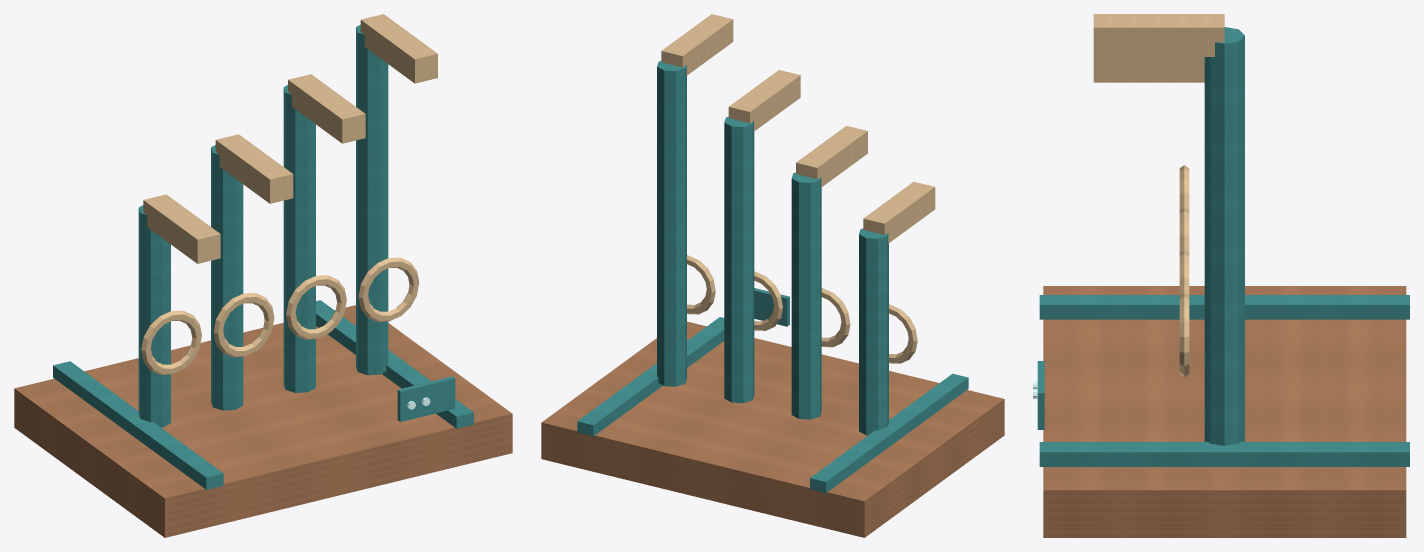
The model's file is atlas100-s094-a03.glb.
3 renders of one model, left to right at view 1: azimuth 30°, elevation 25°; view 2: azimuth 150°, elevation 25°; view 3: azimuth 270°, elevation 25°, orthographic. The views are drawn at different scales.
Parts seen in each view (by area): view 1: atlas100-s094-a03:part-000, atlas100-s094-a03:part-012, atlas100-s094-a03:part-009, atlas100-s094-a03:part-006, atlas100-s094-a03:part-003, atlas100-s094-a03:part-001, atlas100-s094-a03:part-008, atlas100-s094-a03:part-011, atlas100-s094-a03:part-005, atlas100-s094-a03:part-014, atlas100-s094-a03:part-002, atlas100-s094-a03:part-015 (+4 smaller); view 2: atlas100-s094-a03:part-000, atlas100-s094-a03:part-012, atlas100-s094-a03:part-009, atlas100-s094-a03:part-006, atlas100-s094-a03:part-003, atlas100-s094-a03:part-001, atlas100-s094-a03:part-002, atlas100-s094-a03:part-014, atlas100-s094-a03:part-005, atlas100-s094-a03:part-011, atlas100-s094-a03:part-008, atlas100-s094-a03:part-015 (+4 smaller); view 3: atlas100-s094-a03:part-000, atlas100-s094-a03:part-012, atlas100-s094-a03:part-002, atlas100-s094-a03:part-001, atlas100-s094-a03:part-014, atlas100-s094-a03:part-005, atlas100-s094-a03:part-008, atlas100-s094-a03:part-011, atlas100-s094-a03:part-013, atlas100-s094-a03:part-015, atlas100-s094-a03:part-004, atlas100-s094-a03:part-007 (+1 smaller).
Part boxes in pixels (box(x1,y1,x2,y2)): atlas100-s094-a03:part-000: box(14, 305, 512, 537); atlas100-s094-a03:part-012: box(356, 24, 388, 375); atlas100-s094-a03:part-009: box(283, 85, 315, 392); atlas100-s094-a03:part-006: box(211, 145, 243, 410); atlas100-s094-a03:part-003: box(138, 205, 170, 427); atlas100-s094-a03:part-001: box(53, 361, 223, 489); atlas100-s094-a03:part-008: box(215, 134, 293, 203); atlas100-s094-a03:part-011: box(288, 74, 365, 143); atlas100-s094-a03:part-005: box(143, 194, 220, 263); atlas100-s094-a03:part-014: box(360, 14, 437, 83); atlas100-s094-a03:part-002: box(316, 300, 473, 428); atlas100-s094-a03:part-015: box(397, 376, 455, 421); atlas100-s094-a03:part-000: box(541, 321, 1004, 537); atlas100-s094-a03:part-012: box(657, 61, 686, 386); atlas100-s094-a03:part-009: box(724, 116, 754, 403); atlas100-s094-a03:part-006: box(791, 172, 821, 419); atlas100-s094-a03:part-003: box(859, 228, 888, 435); atlas100-s094-a03:part-001: box(810, 373, 968, 493); atlas100-s094-a03:part-002: box(577, 317, 724, 436); atlas100-s094-a03:part-014: box(661, 14, 733, 75); atlas100-s094-a03:part-005: box(863, 181, 935, 243); atlas100-s094-a03:part-011: box(728, 70, 800, 131); atlas100-s094-a03:part-008: box(796, 126, 867, 187); atlas100-s094-a03:part-015: box(754, 288, 789, 326); atlas100-s094-a03:part-000: box(1043, 286, 1406, 537); atlas100-s094-a03:part-012: box(1204, 27, 1244, 445); atlas100-s094-a03:part-002: box(1039, 442, 1409, 466); atlas100-s094-a03:part-001: box(1039, 295, 1409, 319); atlas100-s094-a03:part-014: box(1093, 14, 1224, 56); atlas100-s094-a03:part-005: box(1093, 74, 1204, 82); atlas100-s094-a03:part-008: box(1093, 65, 1204, 73); atlas100-s094-a03:part-011: box(1093, 57, 1204, 65); atlas100-s094-a03:part-013: box(1179, 293, 1189, 377); atlas100-s094-a03:part-015: box(1037, 361, 1044, 429); atlas100-s094-a03:part-004: box(1179, 165, 1189, 210); atlas100-s094-a03:part-007: box(1179, 207, 1189, 253).
Size of the model in its own units: 2.4 by 2.62 by 1.87.
Materials: 4 (4 with a texture image).
